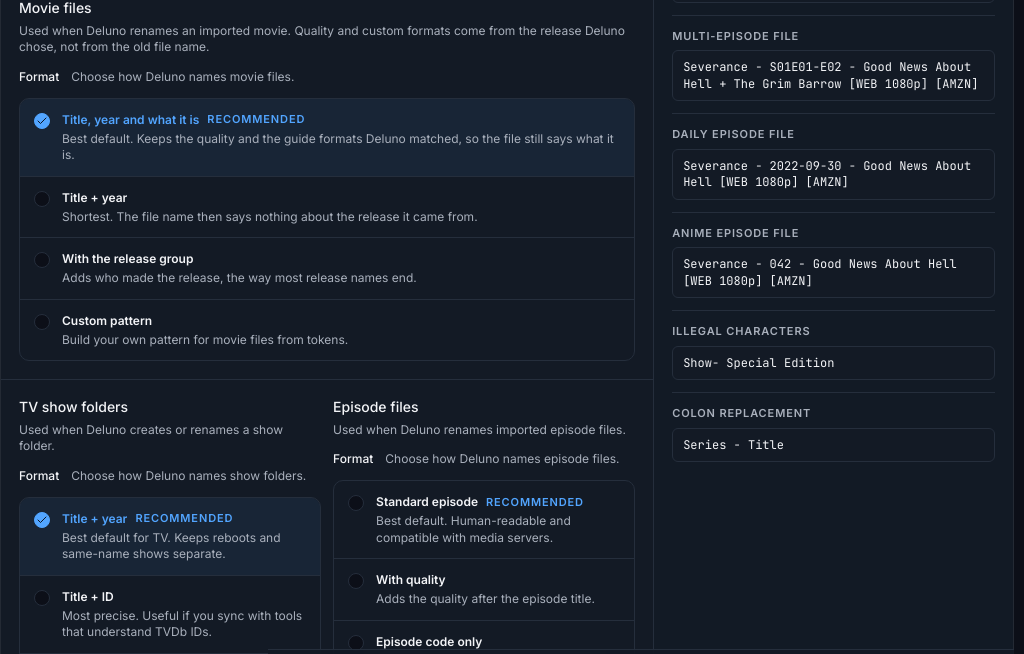
it: custom pattern drawer › offers insertable tokens for the format being built
The width and height of the screenshot is (1024, 654).
(page scrolled)
Click the radio button labelled "Custom pattern" at (327, 330), box 20,300 -> 634,360
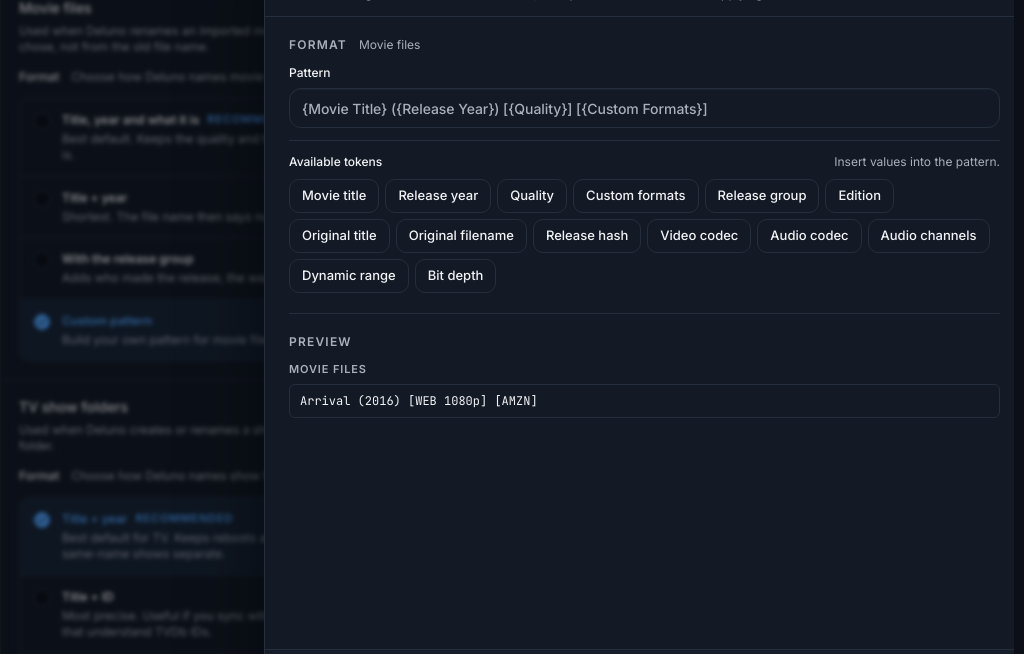
Click the button "Release group" at (762, 196), box 704,179 -> 820,213
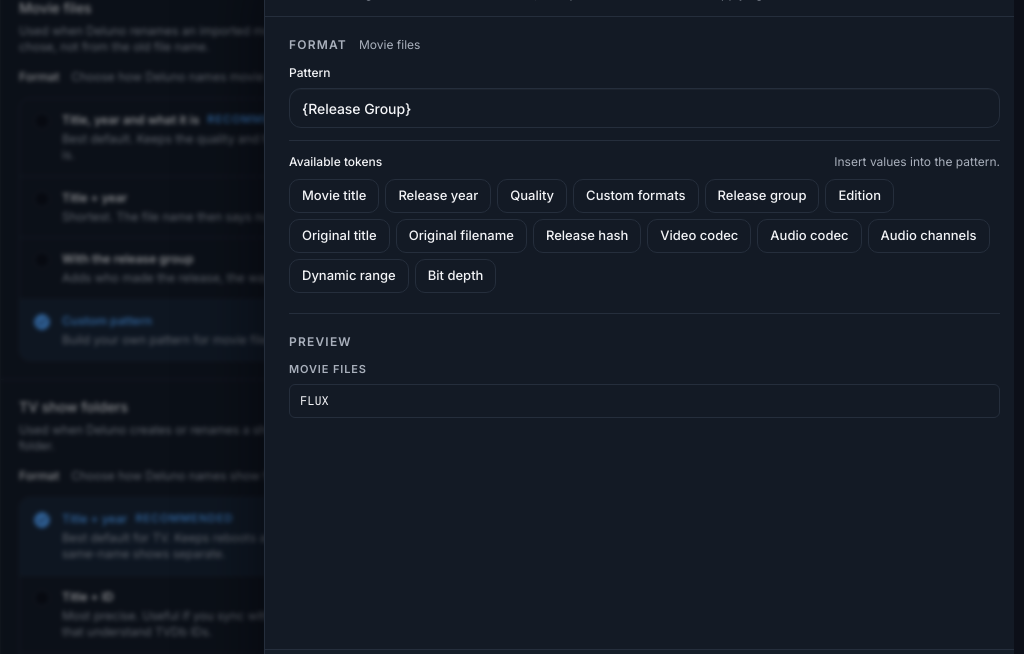
Now the field named "Custom pattern" holds "{Release Group}", box 289,88 -> 1000,128
Click the button "Quality" at (532, 196), box 497,179 -> 567,213
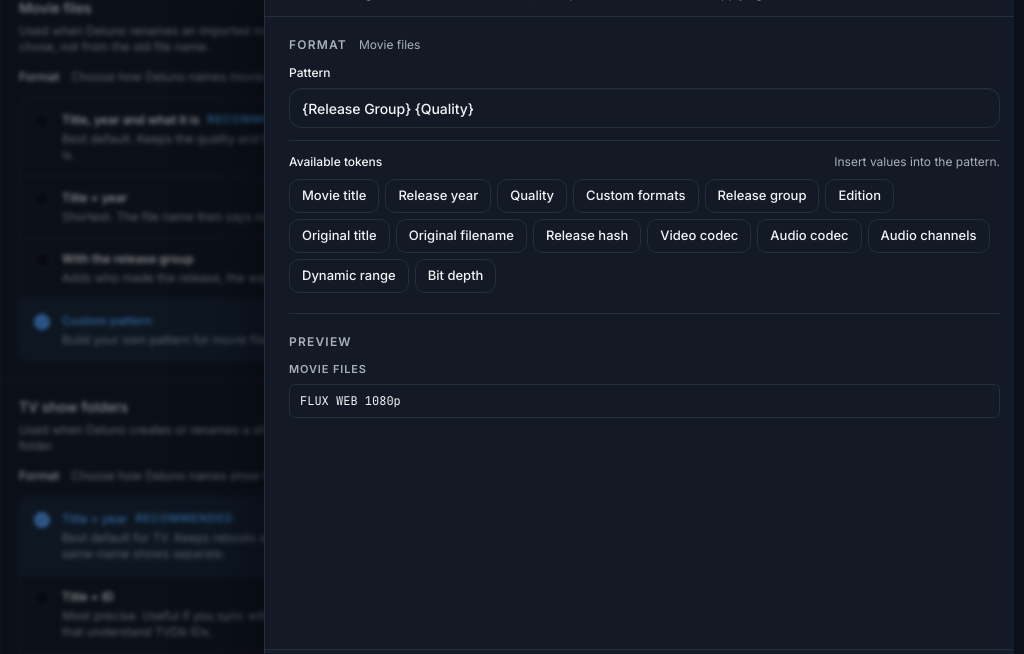
Now the field named "Custom pattern" holds "{Release Group} {Quality}", box 289,88 -> 1000,128
